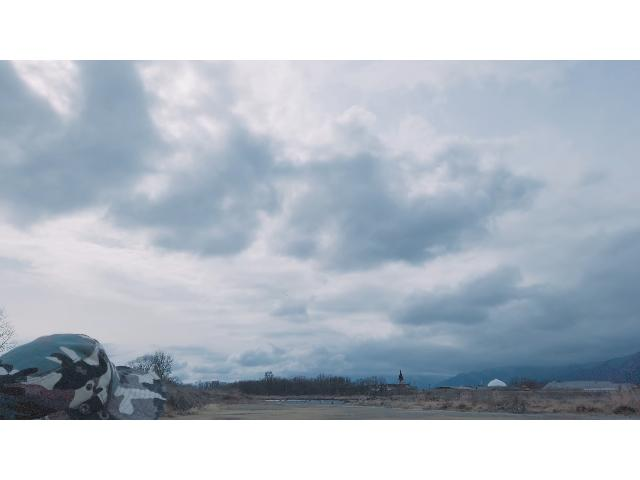Anti-Drone: (281, 290, 291, 301)
